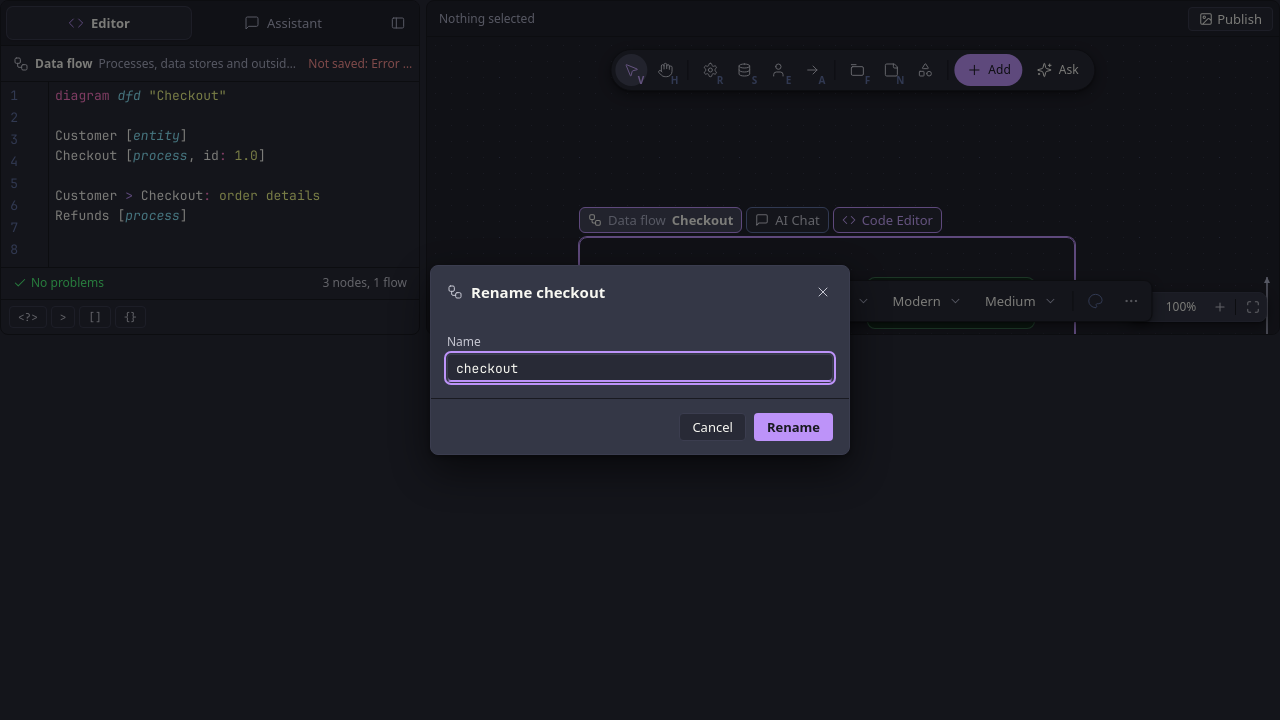
it: rename_after_discard_that_fails_shows_the_file_from_disk
The image size is (1280, 720).
Expected: the message "Not saved: Error (io): The disk is full." is shown, x1=308 y1=56 x2=413 y2=72
Replace the text in the field labelled "Name" with "payments": (640, 368) x1=447 y1=354 x2=833 y2=382
Then press Enter
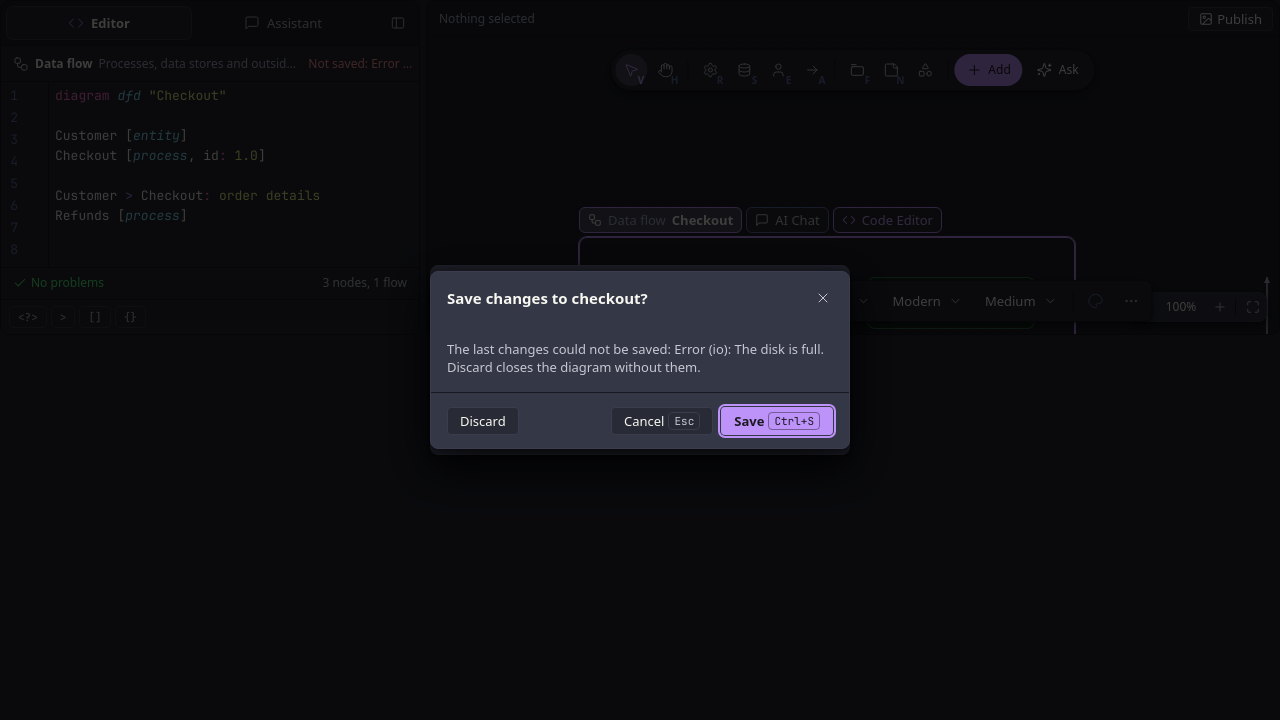
Now the heading "Save changes to checkout?" is shown, box x1=447 y1=288 x2=648 y2=308
Click the button "Discard": (483, 420) x1=447 y1=406 x2=519 y2=434
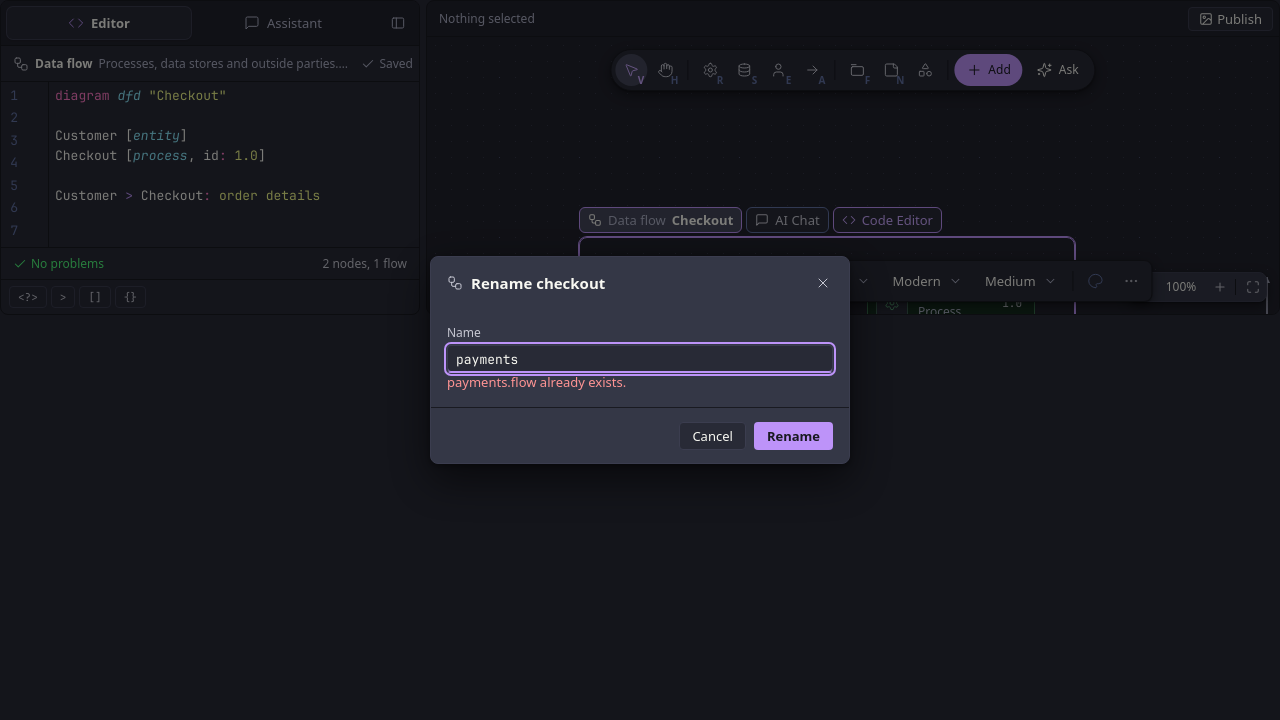
Now the text "payments.flow already exists." is shown, box x1=447 y1=373 x2=626 y2=391
Now the message with class "flow-save-failed" is gone
